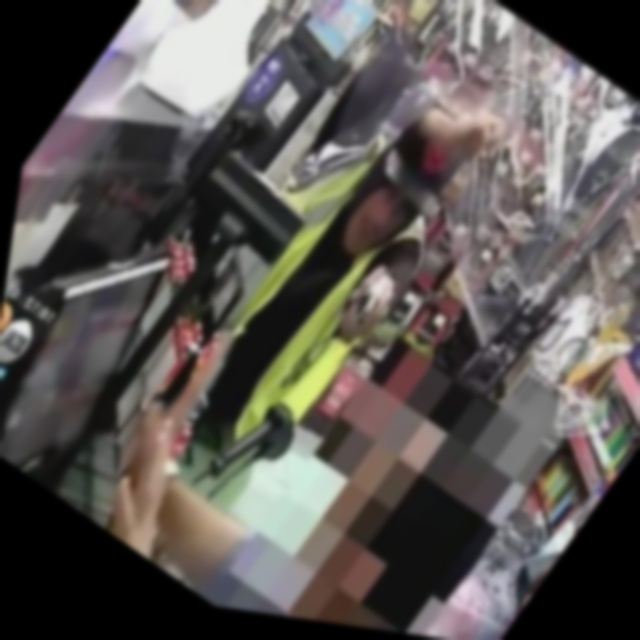gun: (327, 267, 402, 350)
